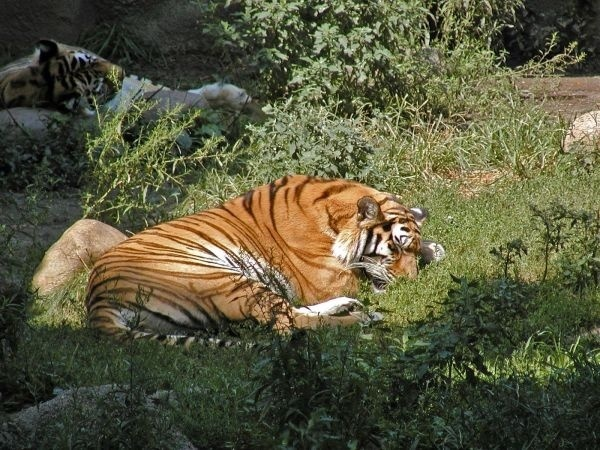tigre: (86, 174, 447, 351)
